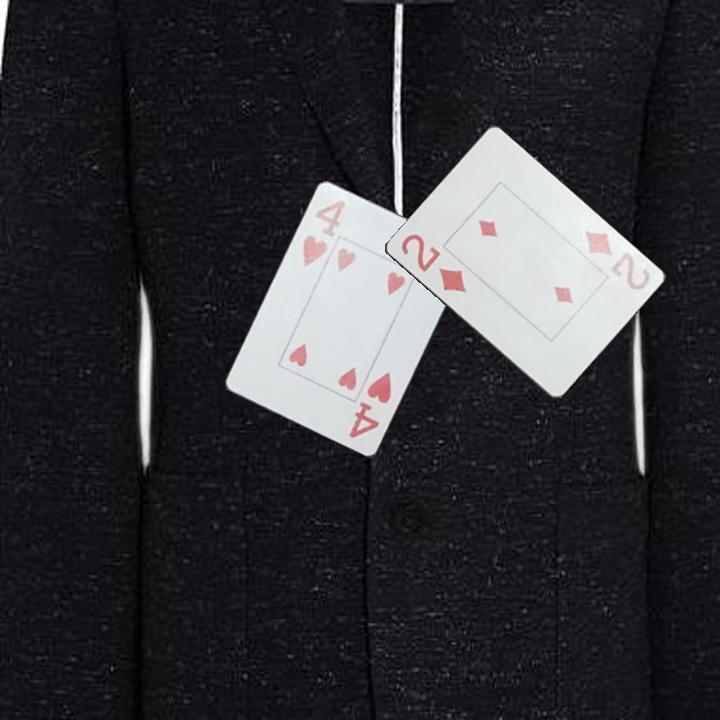2d: (576, 227, 654, 293), (395, 230, 469, 296)
4h: (345, 368, 396, 442), (299, 197, 349, 270)
